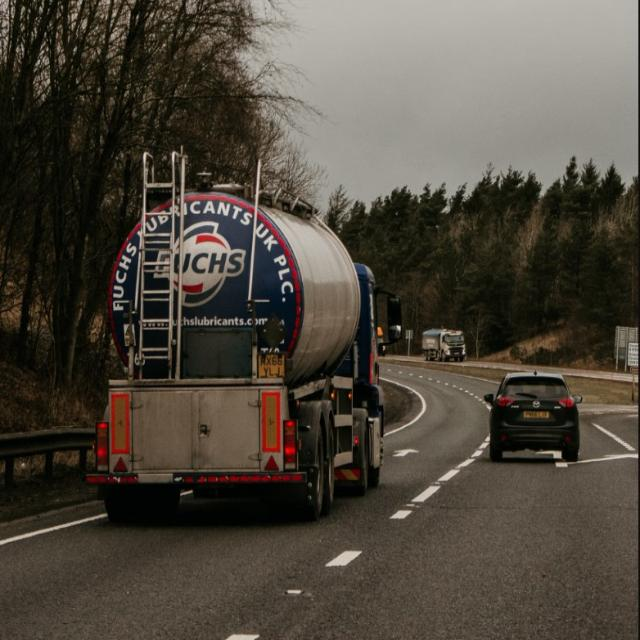car: (486, 369, 584, 460)
truck: (88, 148, 385, 515), (421, 329, 467, 360)
